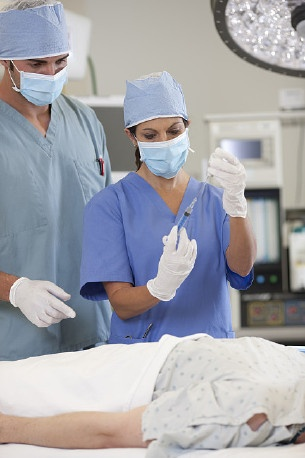Mask: (135, 117, 199, 180)
